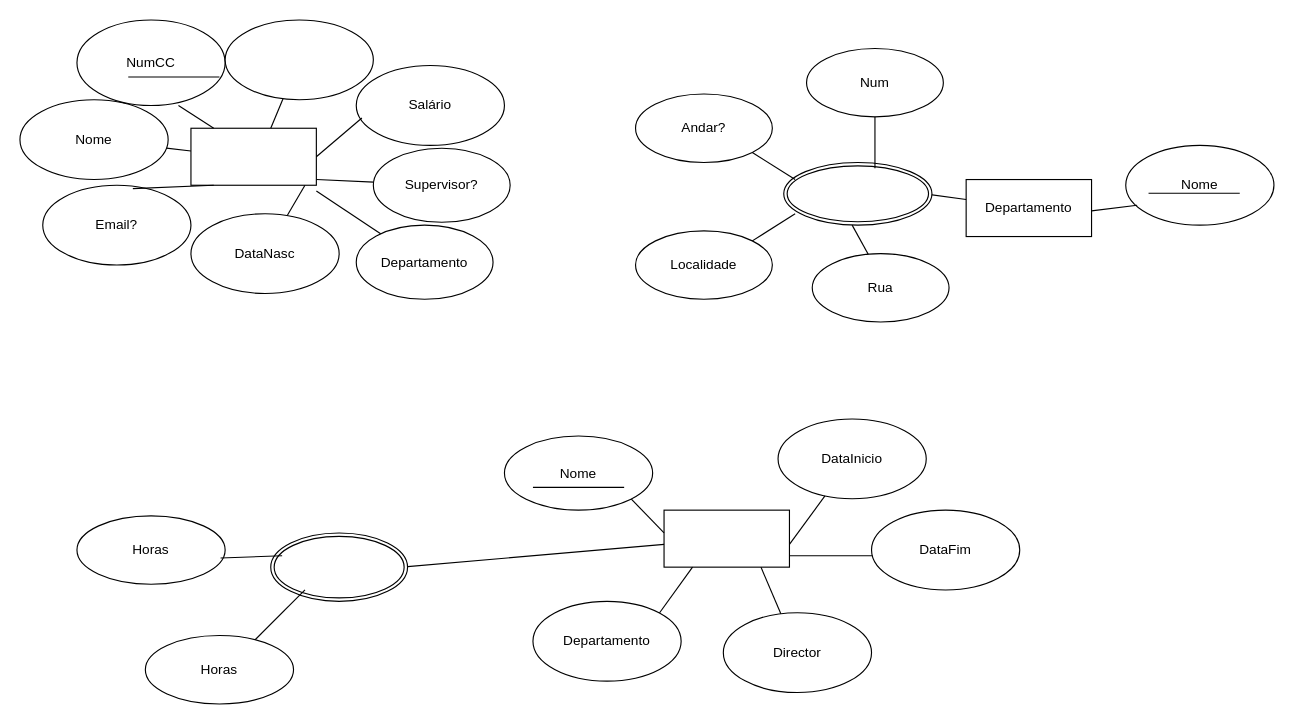
The diagram is 1294 pixels wide and 724 high, and some of its shapes have lost their labels. The centre of each missing label's shape, as x and y in pixels:
"Funcionario" goes at point (253, 156).
"HorasProj" goes at point (298, 59).
"Localização" goes at point (857, 193).
"PROCECTO" goes at point (726, 538).
"Trabalho" goes at point (339, 566).
